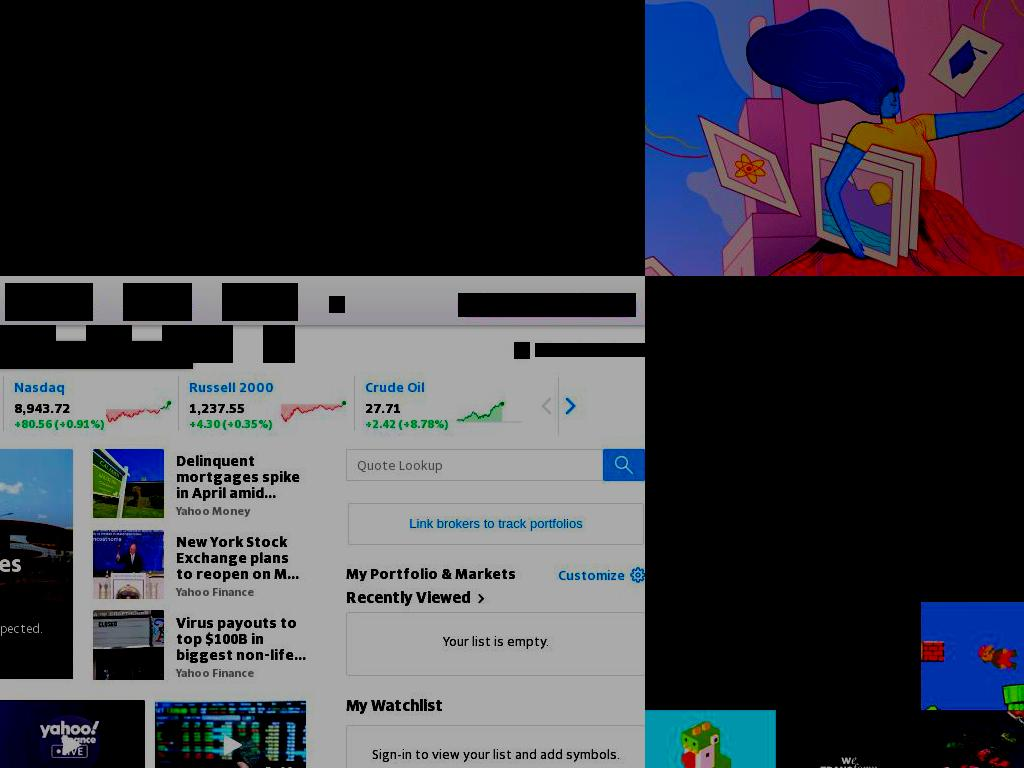button: (775, 492, 921, 602), (775, 276, 921, 385), (775, 384, 921, 493), (775, 601, 921, 710), (93, 448, 306, 519), (93, 529, 306, 599), (93, 610, 306, 680), (645, 492, 776, 602), (645, 276, 776, 385), (645, 384, 776, 493), (645, 601, 776, 710), (346, 500, 645, 547), (920, 492, 1024, 602), (920, 276, 1024, 385), (920, 384, 1024, 493), (920, 601, 1024, 710), (145, 699, 306, 768), (0, 699, 145, 768), (775, 709, 921, 768), (645, 709, 776, 768), (920, 709, 1024, 768), (0, 341, 193, 369), (458, 293, 636, 317), (5, 283, 93, 321), (346, 587, 491, 607), (222, 283, 298, 321), (162, 325, 233, 363), (123, 283, 192, 321), (0, 325, 56, 363), (0, 192, 56, 228), (86, 325, 132, 363), (603, 448, 645, 481), (537, 375, 559, 436), (559, 375, 581, 436), (506, 192, 543, 228), (263, 325, 295, 363), (608, 213, 640, 229)
field: (109, 192, 543, 228), (346, 448, 645, 481)
heading: (175, 452, 306, 501), (175, 533, 306, 582), (175, 614, 306, 663), (189, 378, 275, 395), (365, 378, 425, 395), (13, 399, 70, 416), (189, 399, 246, 416), (13, 378, 65, 395), (365, 399, 401, 416), (58, 416, 100, 430), (227, 416, 269, 430), (403, 416, 444, 430), (13, 416, 52, 430), (189, 416, 221, 430), (365, 416, 396, 430), (53, 416, 59, 430), (222, 416, 228, 430), (99, 416, 104, 430), (268, 416, 273, 430), (398, 416, 403, 430), (444, 416, 448, 430)
image: (0, 0, 645, 276), (0, 0, 645, 178), (0, 40, 645, 136), (775, 492, 921, 602), (775, 276, 921, 385), (775, 384, 921, 493), (775, 601, 921, 710), (645, 492, 776, 602), (645, 276, 776, 385), (645, 384, 776, 493), (645, 601, 776, 710), (920, 492, 1024, 602), (920, 276, 1024, 385), (920, 384, 1024, 493), (920, 601, 1024, 710), (155, 699, 306, 768), (0, 699, 145, 768), (775, 709, 921, 768), (645, 709, 776, 768), (920, 709, 1024, 768), (93, 448, 164, 519), (93, 529, 164, 600), (93, 610, 164, 681), (39, 715, 100, 768), (200, 715, 261, 768), (608, 196, 640, 228), (531, 390, 561, 421), (555, 390, 585, 421), (514, 200, 535, 220), (166, 344, 186, 365), (614, 454, 634, 475), (329, 296, 345, 313), (514, 342, 530, 359), (473, 590, 489, 607), (630, 567, 645, 584), (478, 298, 490, 311), (288, 298, 298, 311)
link: (93, 503, 306, 518), (93, 584, 306, 599), (93, 665, 306, 680)
text: (42, 250, 600, 276), (372, 745, 620, 762), (346, 564, 516, 582), (409, 515, 584, 531), (346, 587, 471, 606), (346, 695, 443, 714), (443, 632, 549, 649), (535, 343, 645, 357), (558, 566, 625, 583), (53, 346, 117, 363), (550, 297, 616, 313), (222, 296, 283, 312), (494, 297, 550, 313), (0, 202, 42, 218), (122, 346, 161, 363), (12, 346, 35, 363), (256, 760, 301, 768), (0, 346, 8, 363), (8, 346, 12, 363)
